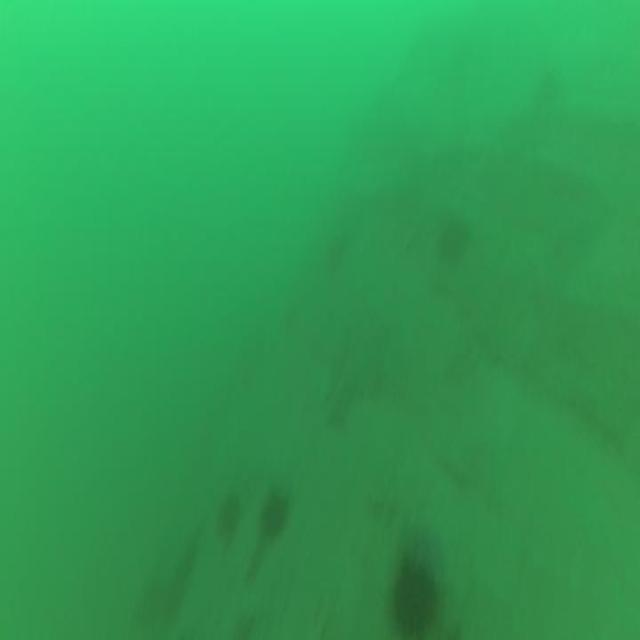echinus: (378, 528, 448, 640), (257, 476, 292, 544), (215, 483, 245, 550)
